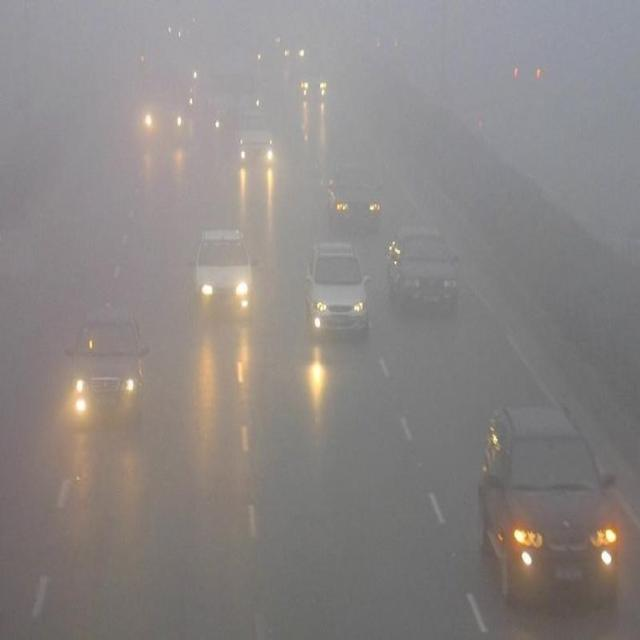bus: (140, 34, 189, 147), (212, 50, 254, 135)
car: (477, 405, 635, 624), (66, 307, 146, 427), (387, 231, 458, 315), (193, 230, 253, 324), (309, 242, 369, 335), (327, 160, 383, 234), (234, 114, 274, 166), (505, 37, 543, 85), (298, 60, 324, 99)
